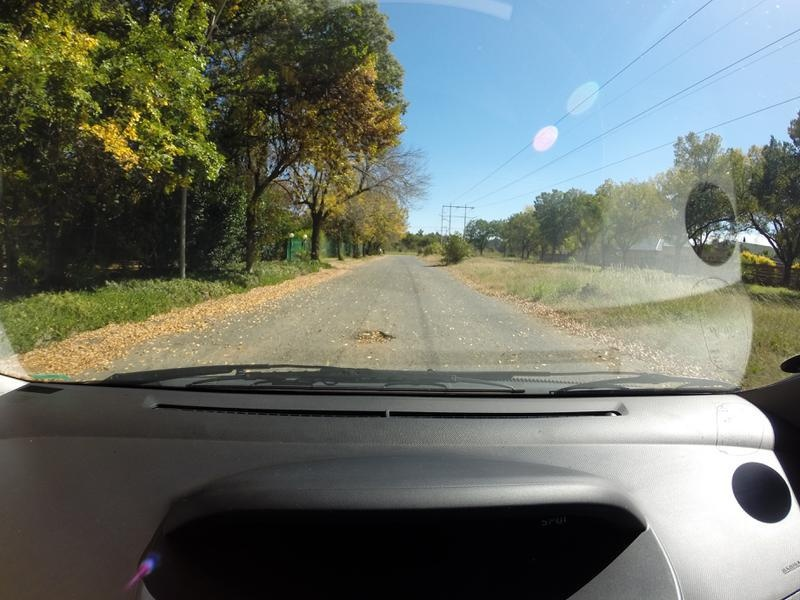pothole: (347, 320, 398, 351)
